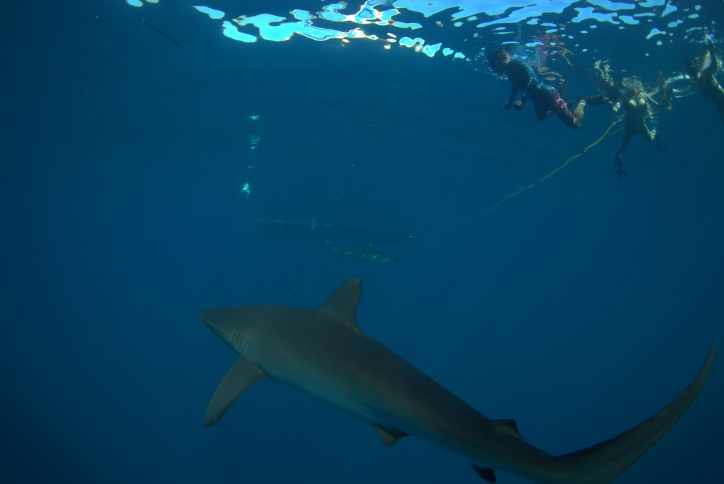Sedoso: (144, 277, 724, 483)
